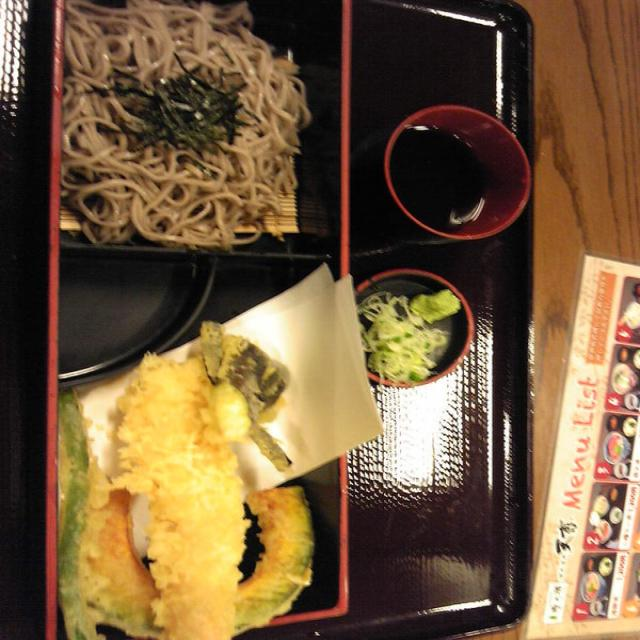面条主食: (0, 220, 329, 444)
